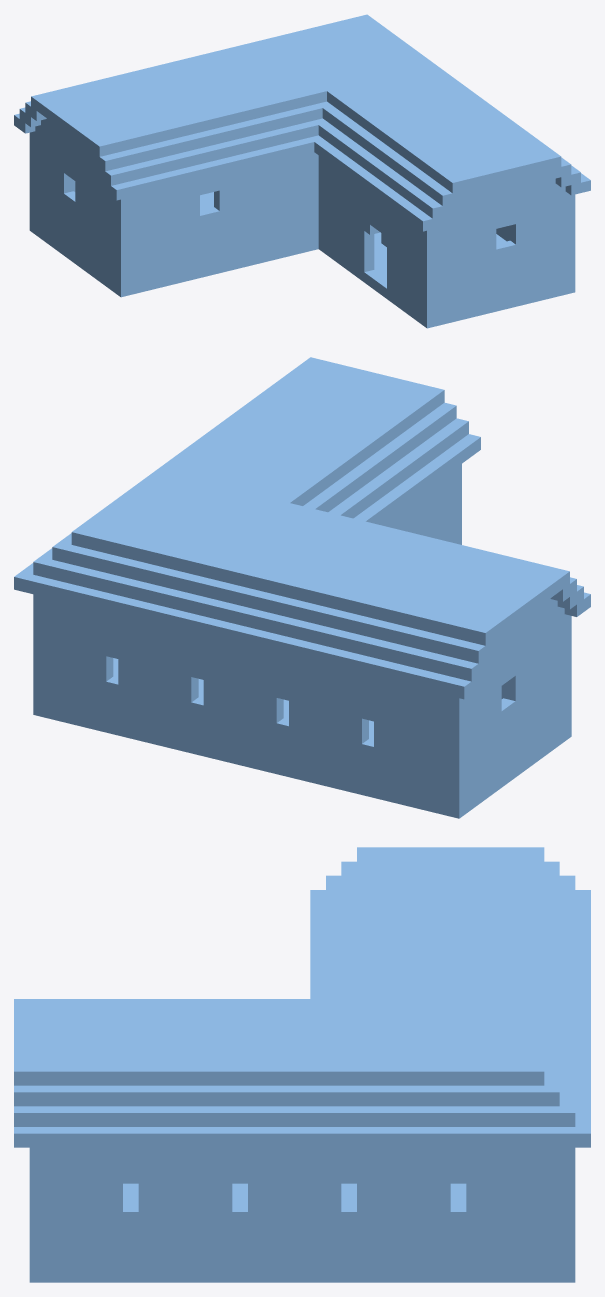
Rendered from shop1.glb.
3 views of the same model, one above another, from view 1: azimuth 30°, elevation 25°; view 2: azimuth 150°, elevation 25°; view 3: azimuth 270°, elevation 25° (orthographic). The views are drawn at different scales.
Visible parts, largest first — view 1: Untitled; view 2: Untitled; view 3: Untitled.
Part boxes in pixels (x1=…): Untitled: x1=14, y1=14, x2=590, y2=328; Untitled: x1=14, y1=357, x2=590, y2=818; Untitled: x1=14, y1=847, x2=590, y2=1282.
Bounding box in the file's own units: 14.8 × 5.6 × 14.8.
1 material, 1 textured.
